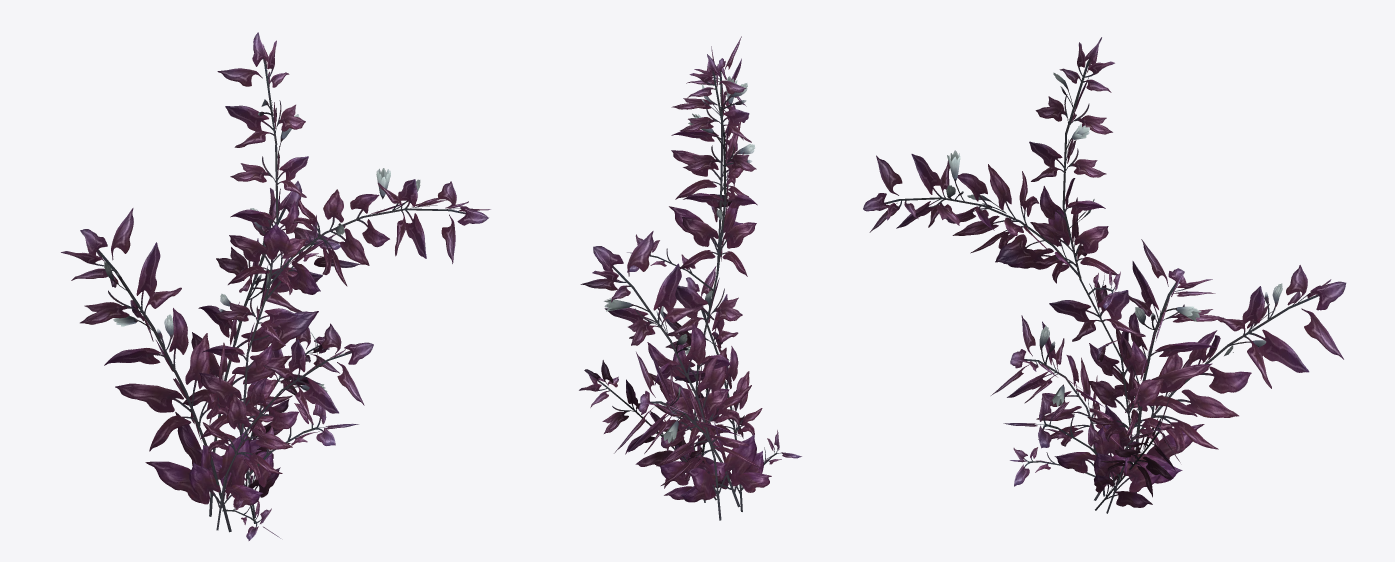
3 views of the same model, side by side, from view 1: azimuth 30°, elevation 25°; view 2: azimuth 150°, elevation 25°; view 3: azimuth 270°, elevation 25° (orthographic). The views are drawn at different scales.
Size of the model in its own units: 7.43 by 14.03 by 12.96.
1 material, 1 textured.
